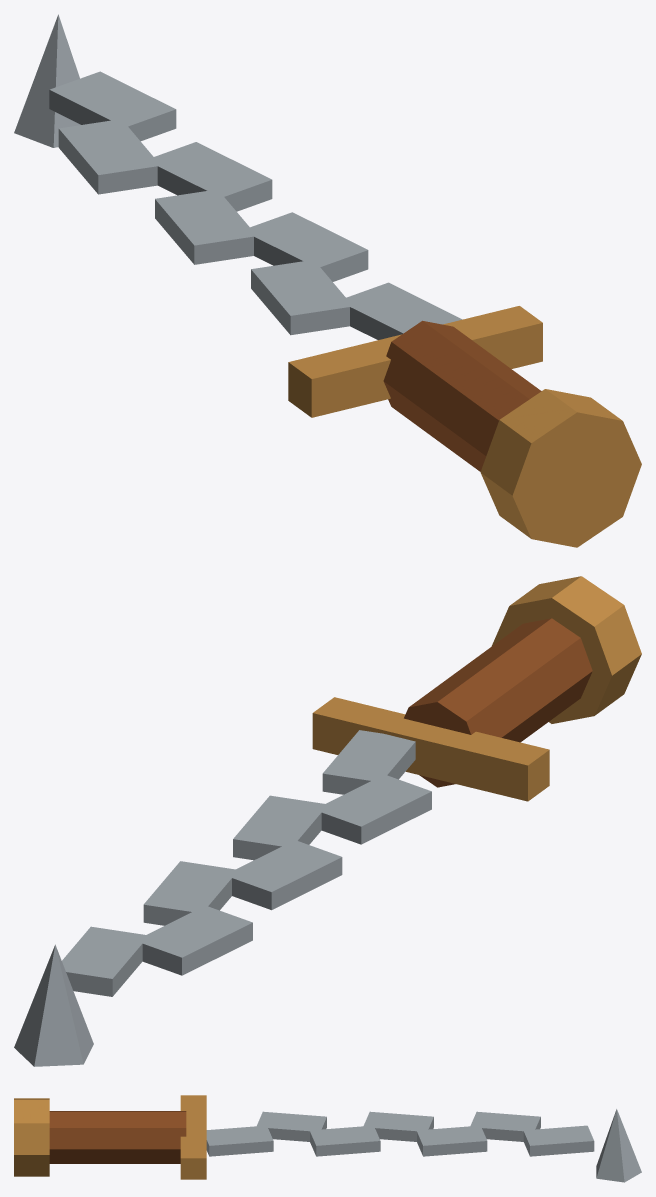
Rendered from weapon_kris.glb.
3 views of the same model, one above another, from view 1: azimuth 30°, elevation 25°; view 2: azimuth 150°, elevation 25°; view 3: azimuth 270°, elevation 25° (orthographic). The views are drawn at different scales.
Parts seen in each view (by area): view 1: Pommel, Grip, Guard, Blade5, Blade1, Blade3, Blade6, Blade2, Blade4, BladeTip, Blade0; view 2: Grip, Guard, Pommel, BladeTip, Blade1, Blade3, Blade5, Blade6, Blade0, Blade2, Blade4; view 3: Grip, Pommel, Guard, BladeTip, Blade6, Blade4, Blade2, Blade0, Blade5, Blade3, Blade1.
Part boxes in pixels (bbox=[...]): Pommel: bbox=[480, 389, 641, 547]; Grip: bbox=[383, 320, 541, 471]; Guard: bbox=[288, 306, 542, 417]; Blade5: bbox=[58, 119, 160, 194]; Blade1: bbox=[251, 261, 352, 335]; Blade3: bbox=[155, 189, 253, 264]; Blade6: bbox=[49, 71, 176, 141]; Blade2: bbox=[242, 212, 368, 281]; Blade4: bbox=[146, 142, 272, 211]; BladeTip: bbox=[14, 14, 80, 147]; Blade0: bbox=[346, 282, 462, 339]; Grip: bbox=[404, 618, 592, 787]; Guard: bbox=[312, 697, 549, 801]; Pommel: bbox=[491, 576, 641, 723]; BladeTip: bbox=[14, 944, 93, 1066]; Blade1: bbox=[314, 774, 431, 844]; Blade3: bbox=[224, 841, 342, 910]; Blade5: bbox=[135, 906, 252, 975]; Blade6: bbox=[62, 926, 145, 996]; Blade0: bbox=[322, 730, 415, 794]; Blade2: bbox=[233, 795, 324, 860]; Blade4: bbox=[143, 861, 235, 925]; Grip: bbox=[49, 1111, 186, 1163]; Pommel: bbox=[14, 1098, 49, 1176]; Guard: bbox=[180, 1095, 206, 1179]; BladeTip: bbox=[596, 1109, 641, 1182]; Blade6: bbox=[523, 1125, 594, 1156]; Blade4: bbox=[416, 1125, 487, 1156]; Blade2: bbox=[309, 1125, 380, 1156]; Blade0: bbox=[206, 1125, 273, 1156]; Blade5: bbox=[470, 1111, 540, 1141]; Blade3: bbox=[363, 1111, 433, 1141]; Blade1: bbox=[257, 1111, 326, 1141].
Bounding box in the file's own units: 2 × 1.12 × 8.46.
